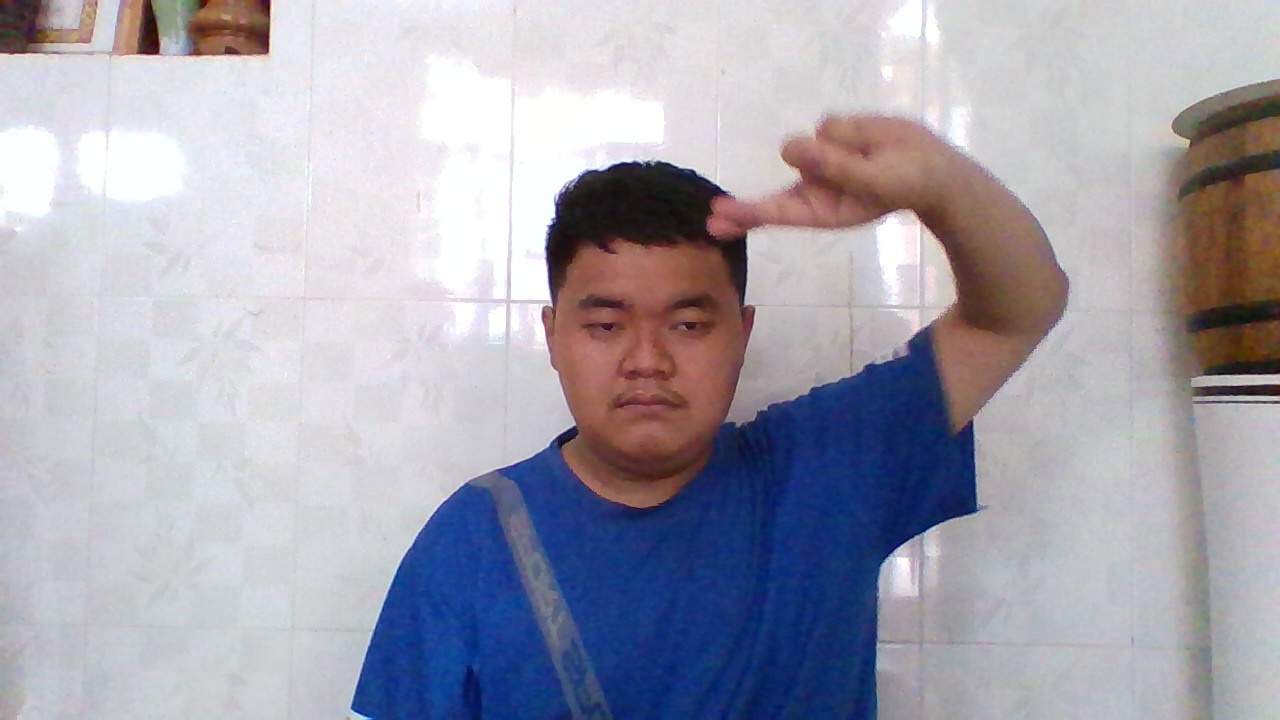R: (701, 111, 948, 235)
